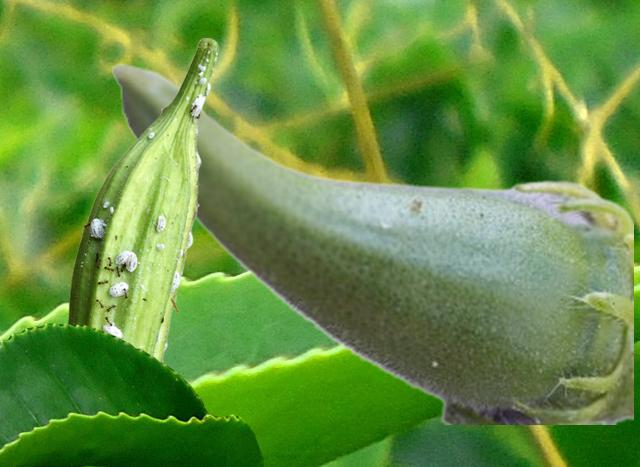okra: (110, 62, 632, 423), (65, 38, 218, 362)
